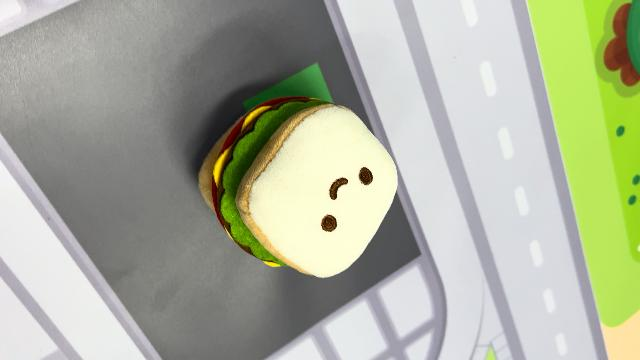sandwich: (196, 93, 400, 280)
